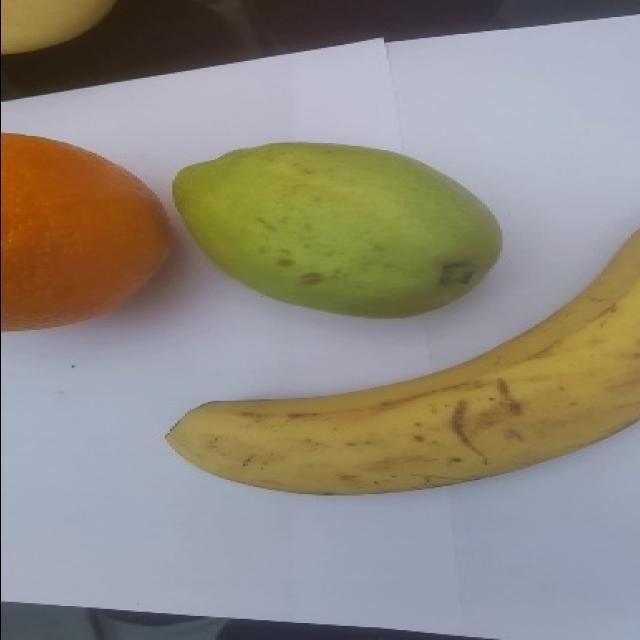Banana: (164, 226, 639, 496)
Orange: (0, 131, 172, 331)
